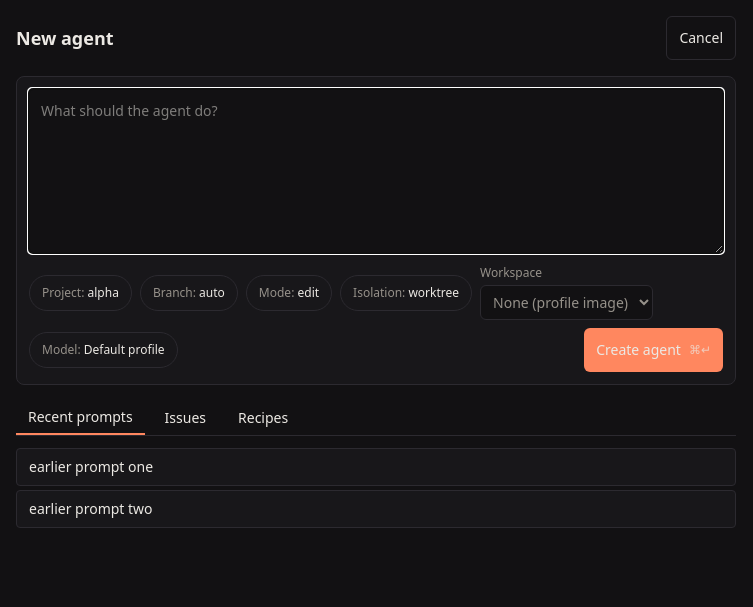
Scenario: NewAgent › keeps the prompt and shows the error when spawning fails
Expected: the button "Project: alpha" is shown, [29,274,132,310]
Type "keep me" into the text box named "Prompt". click: coordinates (376, 171)
box: [29,89,723,253]
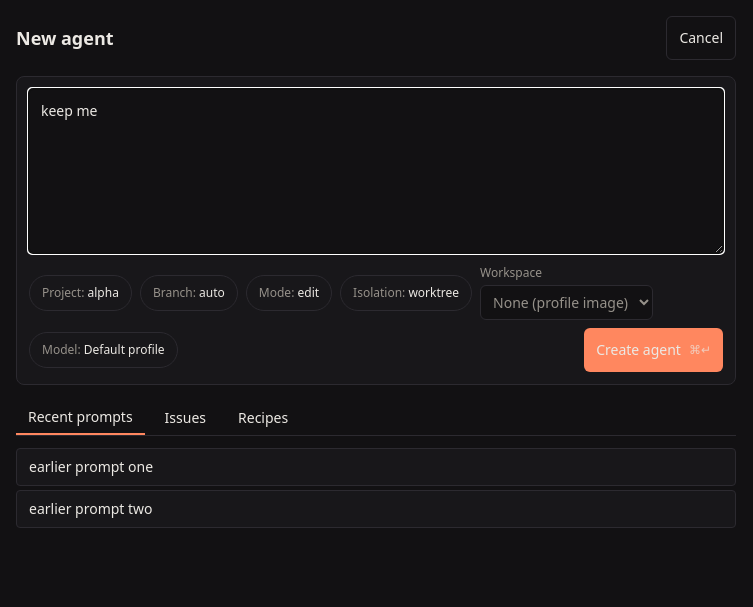
Click the button "Create agent ⌘↵". click: coordinates (654, 350)
box: [584,328,723,372]
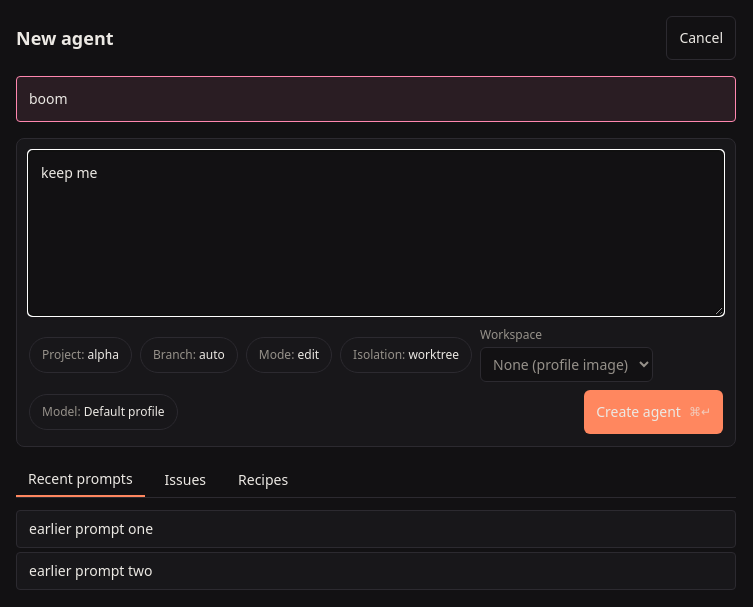
Now the message reads "boom", box [29,89,68,108]
